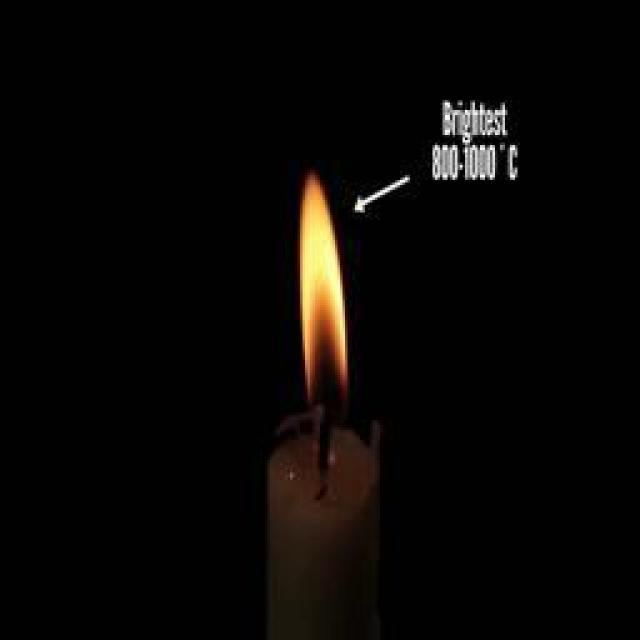Fire: (298, 176, 350, 389)
